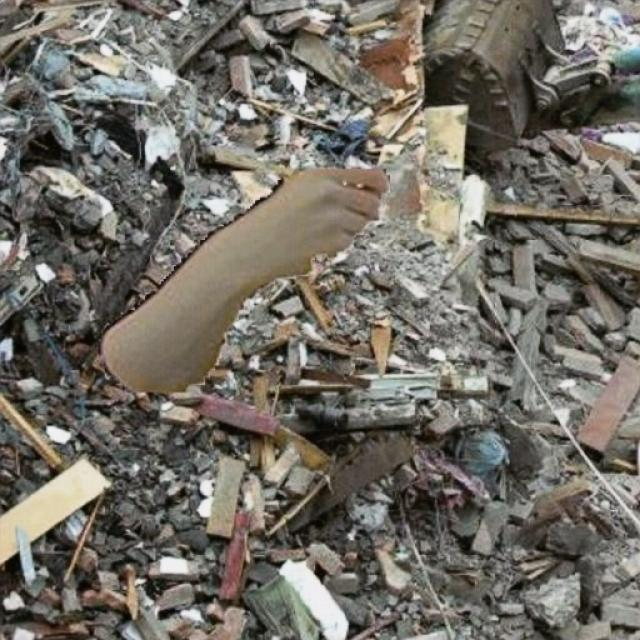Person in Rubble: (99, 168, 389, 392)
